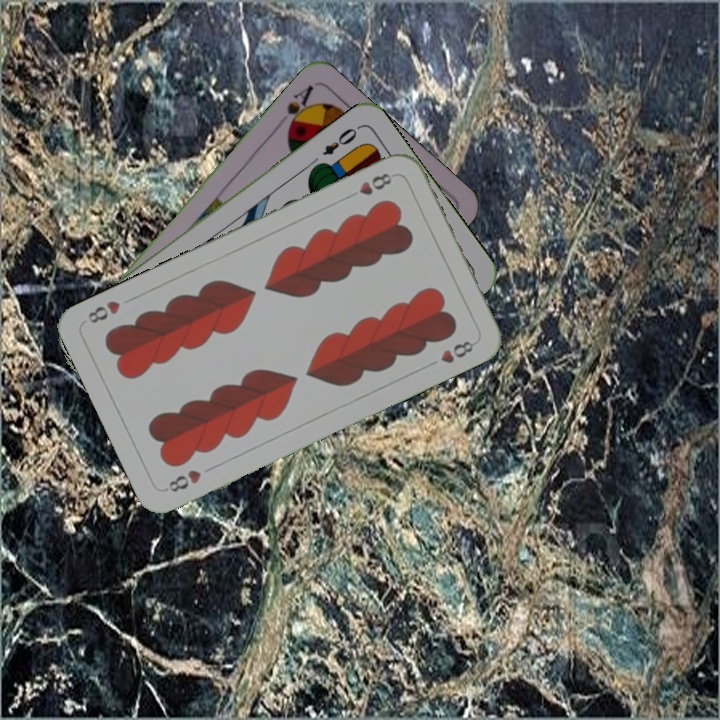EO: (318, 121, 363, 158)
H8: (343, 169, 394, 202), (161, 465, 204, 495)
SA: (283, 80, 317, 136)
